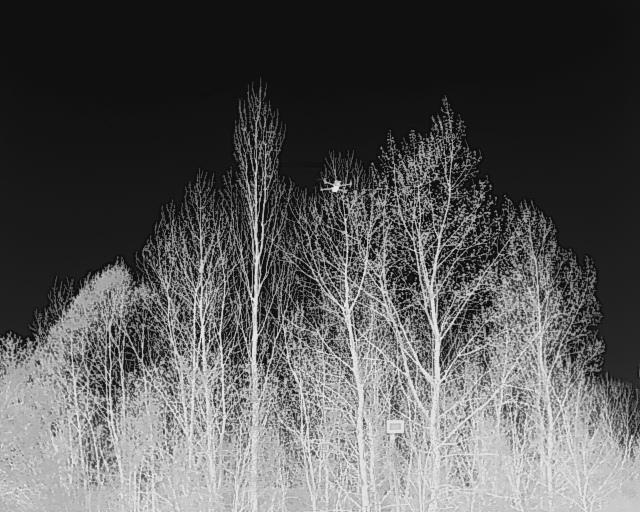drone: (318, 172, 355, 201)
